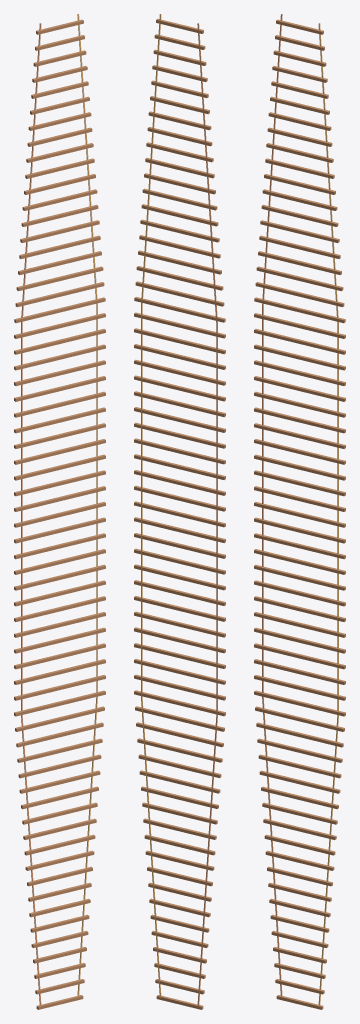
Rendered from Chaos_Overload.fbx.
3 views of the same model, side by side, from view 1: azimuth 30°, elevation 25°; view 2: azimuth 150°, elevation 25°; view 3: azimuth 330°, elevation 25° (orthographic).
Parts seen in each view (by area): view 1: Chaos_Overload; view 2: Chaos_Overload; view 3: Chaos_Overload.
Boxes of the visible parts, x1,y1,x2,y2 form: Chaos_Overload: [14, 14, 105, 1009]; Chaos_Overload: [134, 14, 225, 1009]; Chaos_Overload: [254, 14, 345, 1009].
Bounding box in the file's own units: 4.8 × 50.08 × 0.1533.
